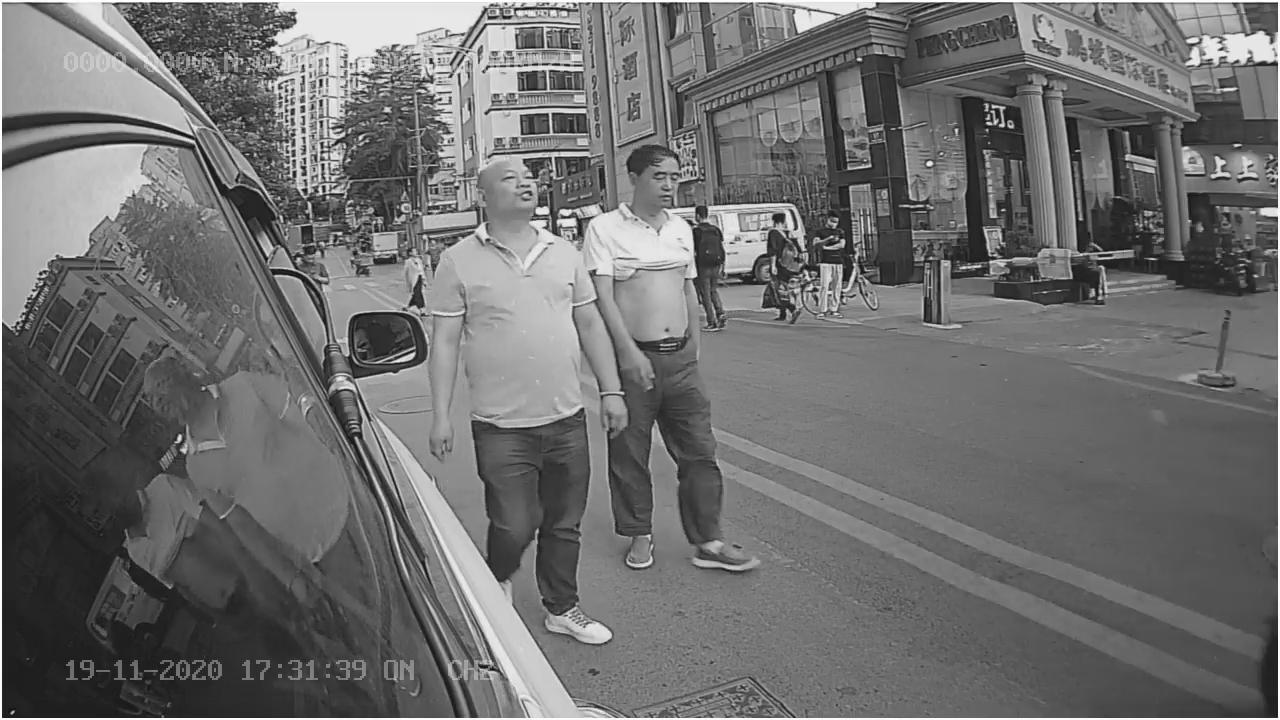person: (615, 154, 738, 558), (428, 165, 591, 435)
